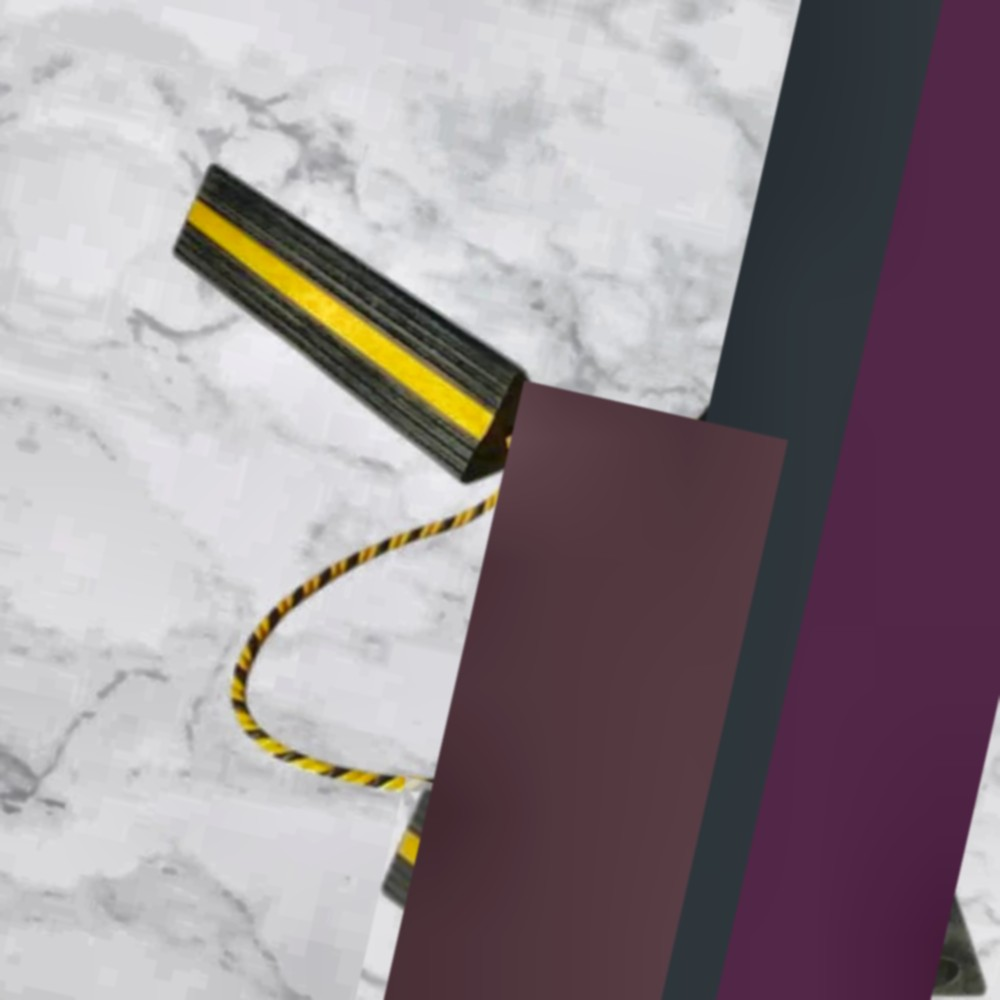chock: (542, 364, 1000, 1000), (135, 153, 598, 501), (710, 555, 1000, 1000), (340, 777, 866, 1000)
